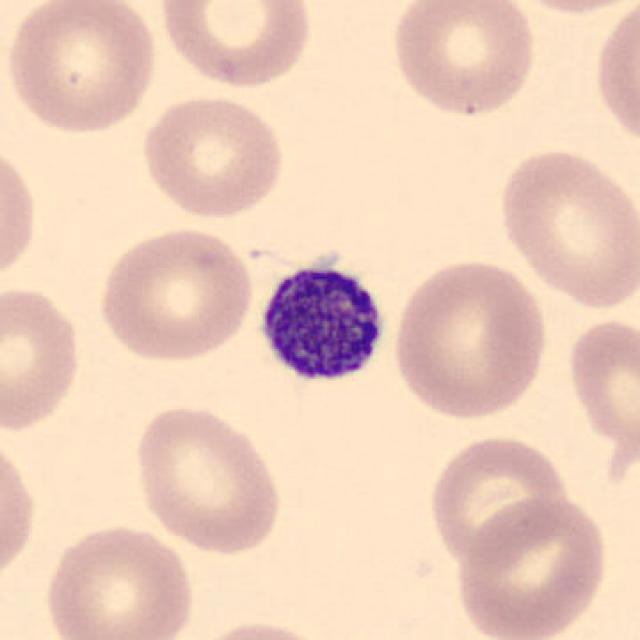Platelets: (246, 240, 396, 398)
RBC: (387, 254, 553, 423), (492, 143, 638, 312), (130, 400, 286, 557), (452, 492, 614, 640), (92, 222, 256, 365), (2, 0, 162, 138), (137, 90, 288, 222), (425, 432, 569, 568), (39, 520, 197, 640), (386, 0, 540, 120), (154, 0, 316, 92), (0, 282, 85, 435), (562, 312, 638, 469), (590, 0, 638, 153), (0, 428, 41, 592), (0, 138, 41, 292), (183, 615, 341, 640), (499, 0, 640, 16)
